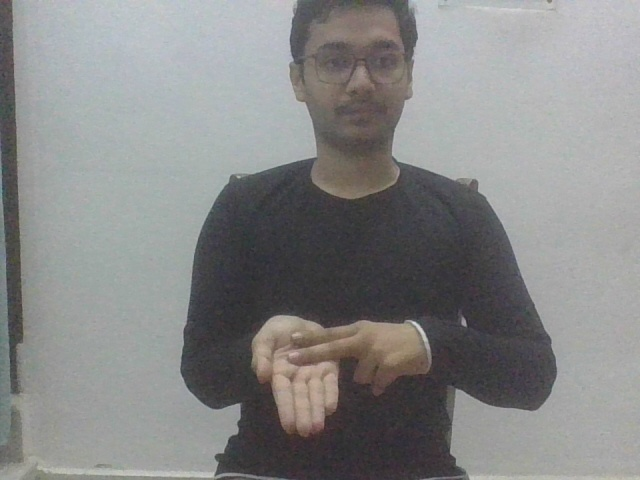N: (248, 312, 435, 441)
